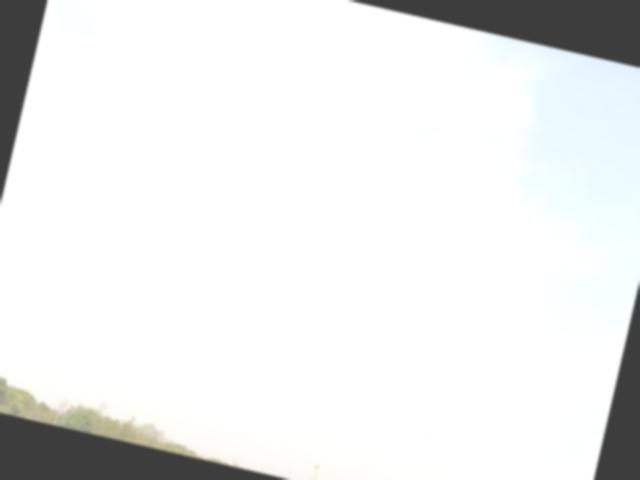iha: (268, 336, 278, 346)
